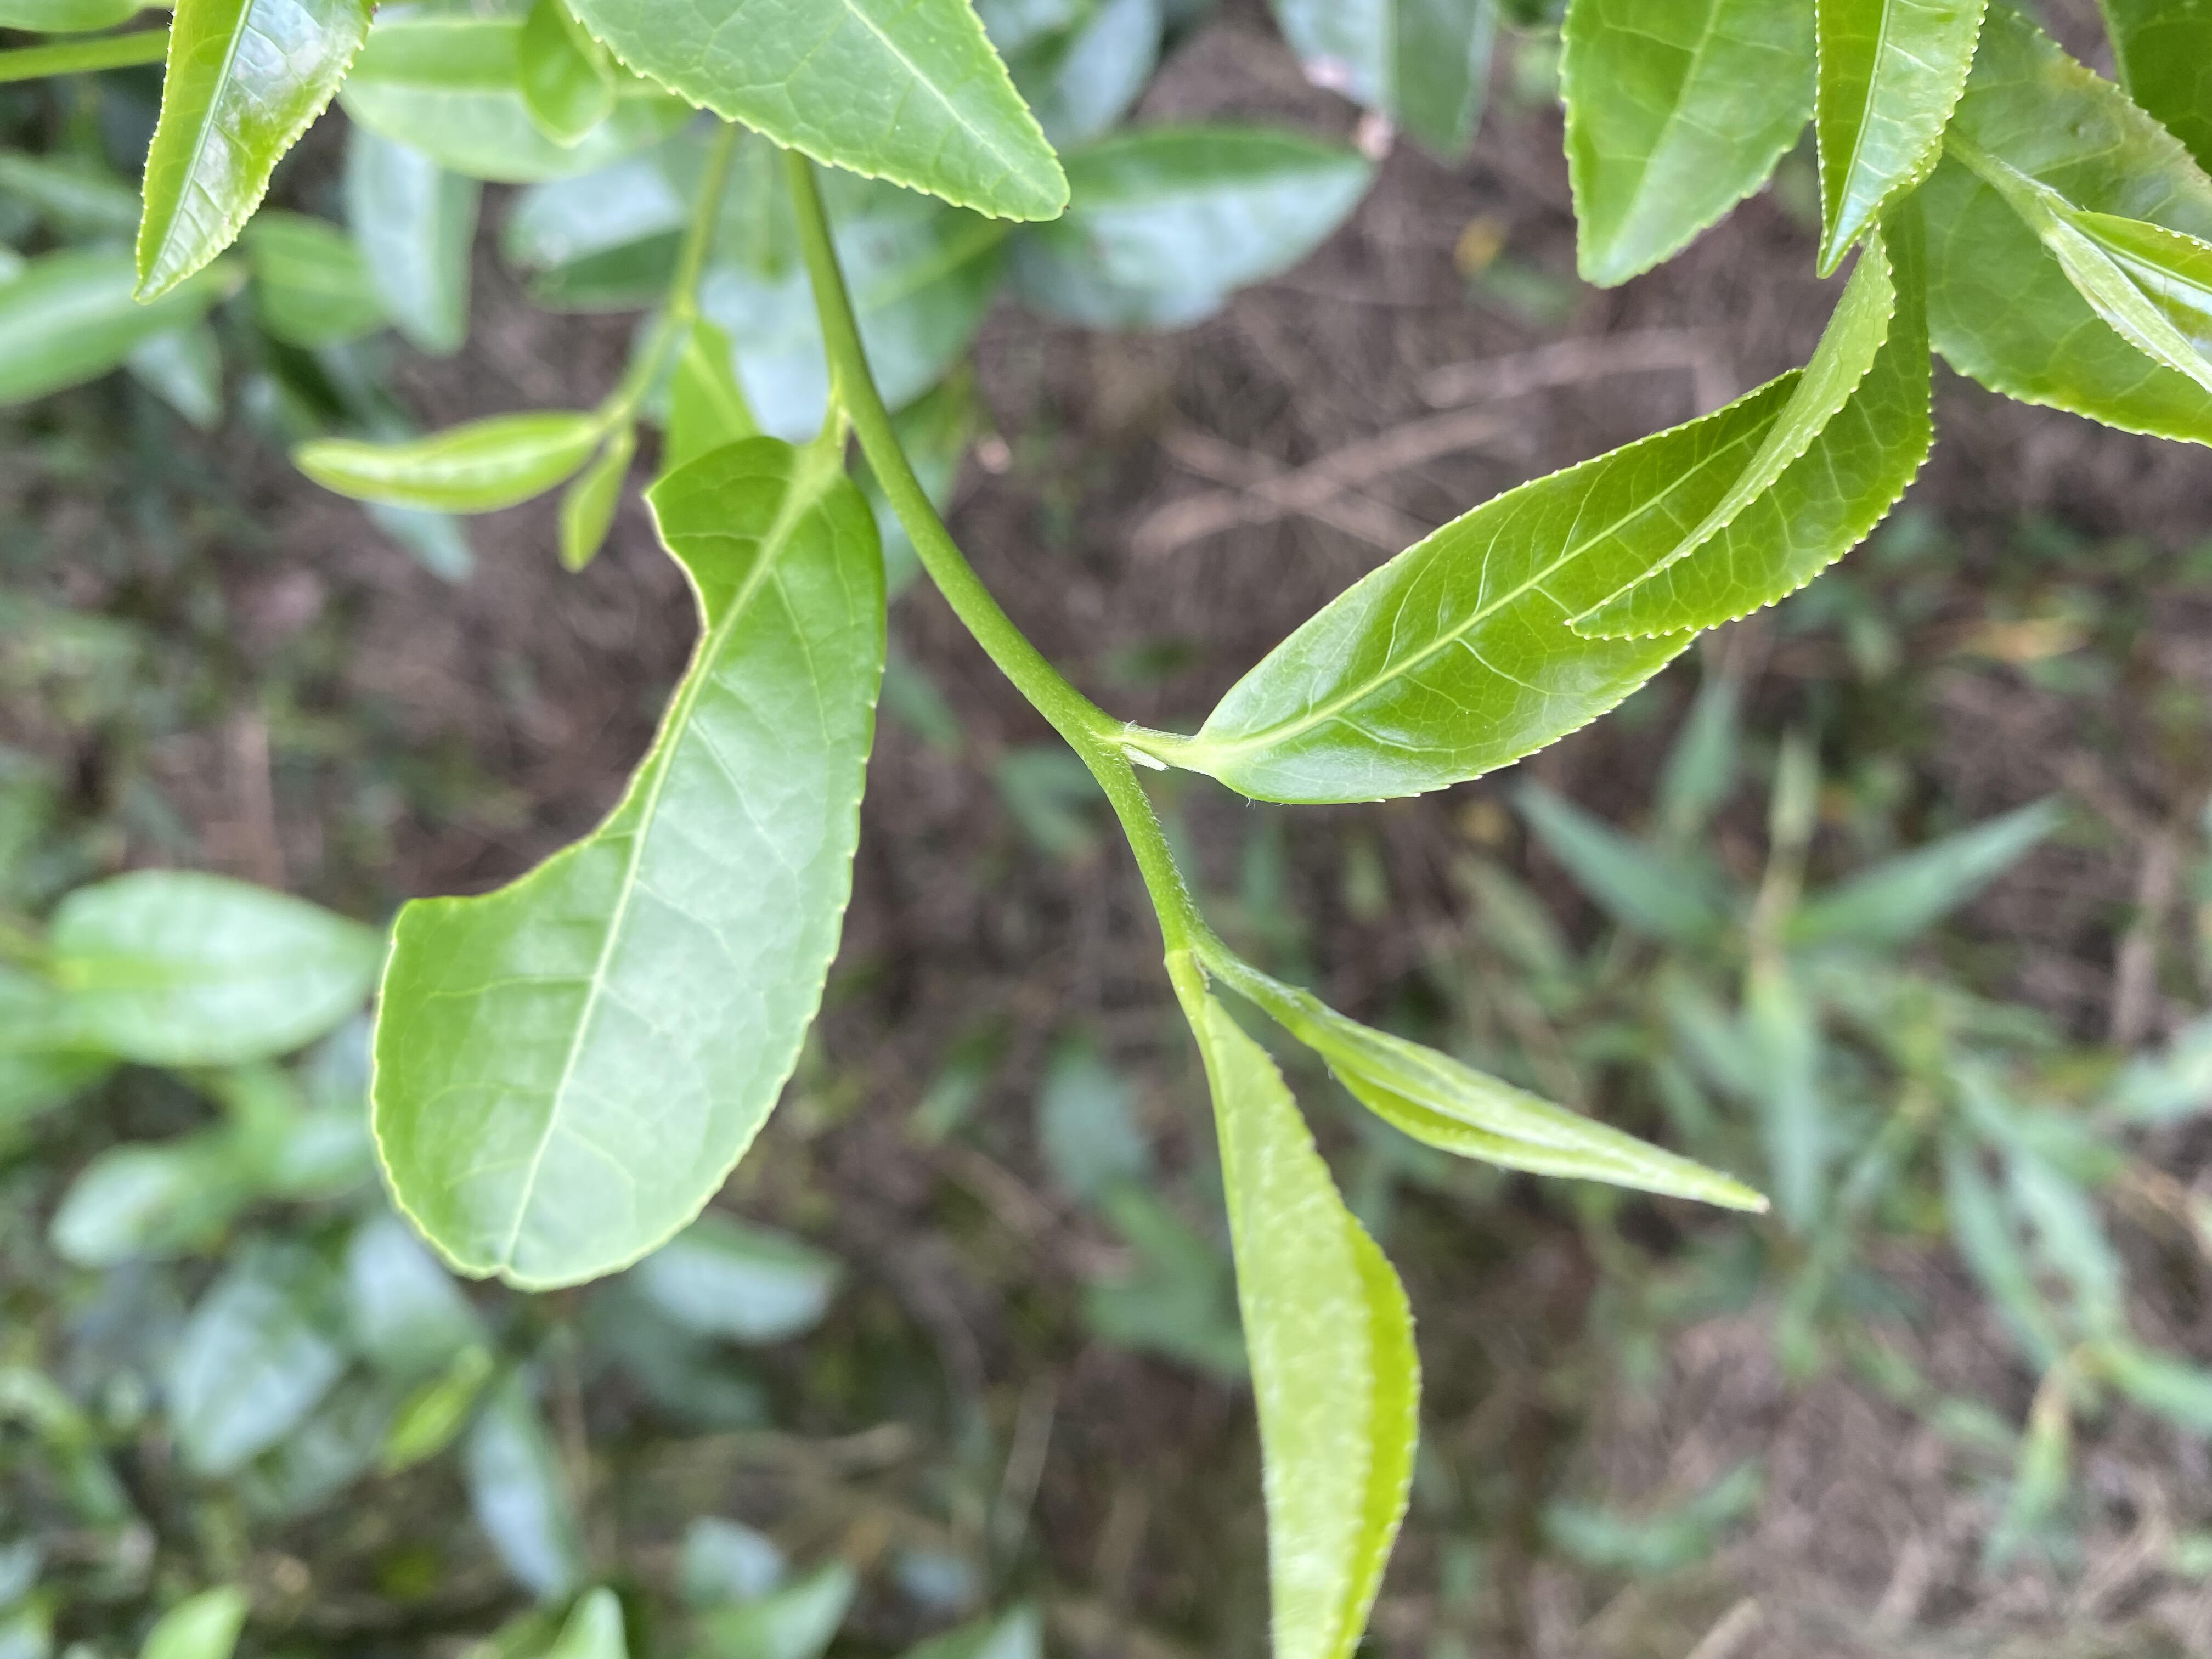chihuo_low: (368, 434, 894, 1298)
healthy: (1195, 368, 1806, 807), (1566, 225, 1935, 641), (557, 2, 1069, 221), (125, 2, 380, 308), (1554, 2, 1815, 289), (1808, 2, 1991, 281)
